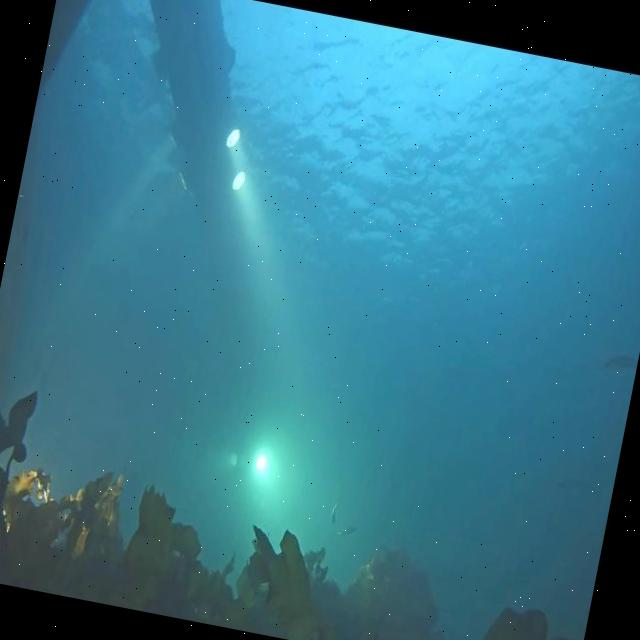fish: (596, 348, 638, 384), (336, 522, 360, 542), (328, 505, 339, 526)
